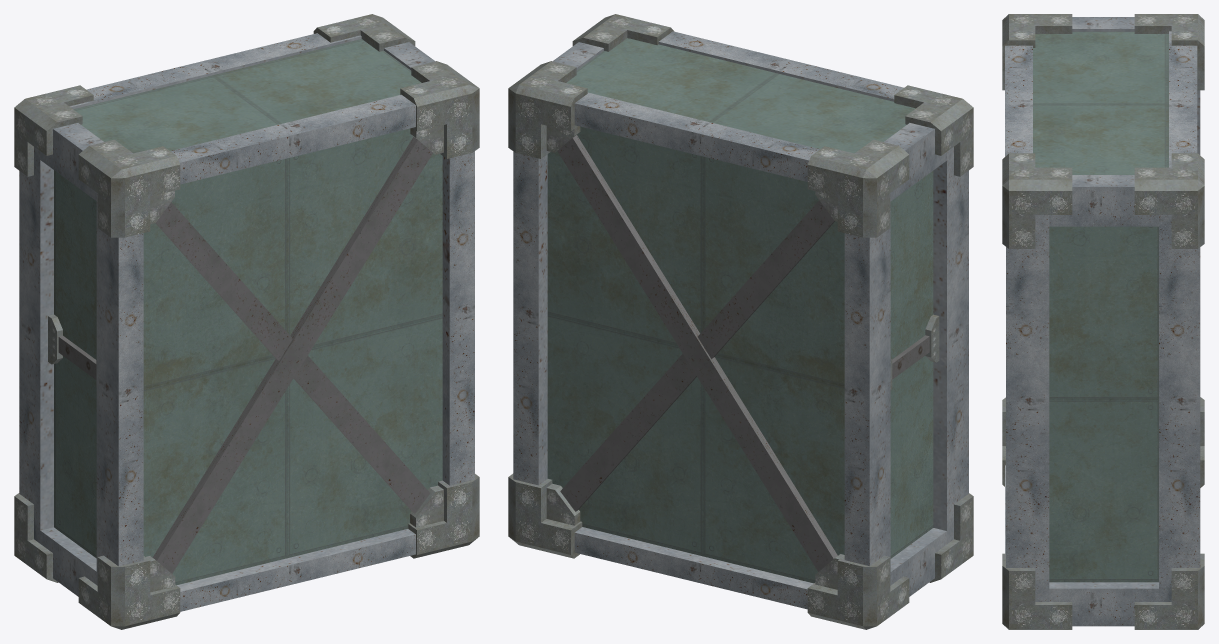
The model's file is Ob_CrateThin_RC.fbx.
3 views of the same model, side by side, from view 1: azimuth 30°, elevation 25°; view 2: azimuth 150°, elevation 25°; view 3: azimuth 270°, elevation 25° (orthographic). The views are drawn at different scales.
Parts seen in each view (by area): view 1: Ob_CrateThin_RC; view 2: Ob_CrateThin_RC; view 3: Ob_CrateThin_RC.
Boxes of the visible parts, box(x1,y1,x2,y2) form: Ob_CrateThin_RC: box(14, 14, 479, 629); Ob_CrateThin_RC: box(508, 14, 973, 629); Ob_CrateThin_RC: box(1002, 14, 1204, 629).
Bounding box in the file's own units: 444 × 530 × 216.
